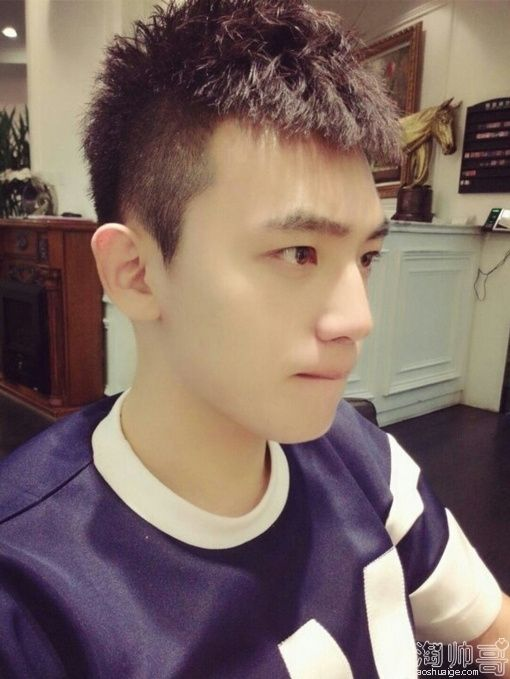person: (30, 7, 412, 511)
